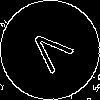V: (25, 25, 81, 81)
